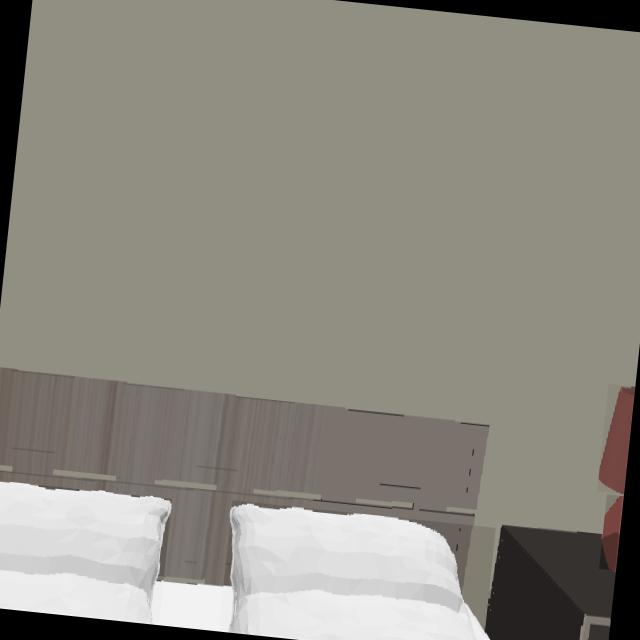lamp: (599, 386, 633, 493), (602, 498, 621, 570)
nighttable: (486, 528, 614, 640)
pillow: (231, 505, 490, 640), (0, 482, 170, 621)
